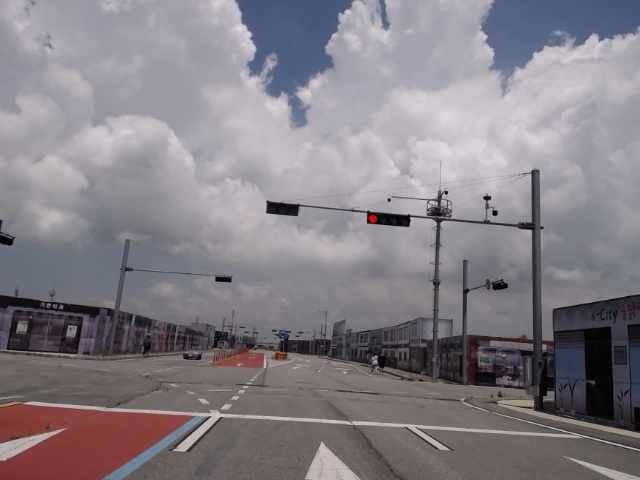red_4: (367, 213, 410, 228)
